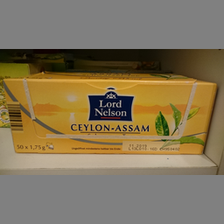tea: (4, 73, 217, 155)
